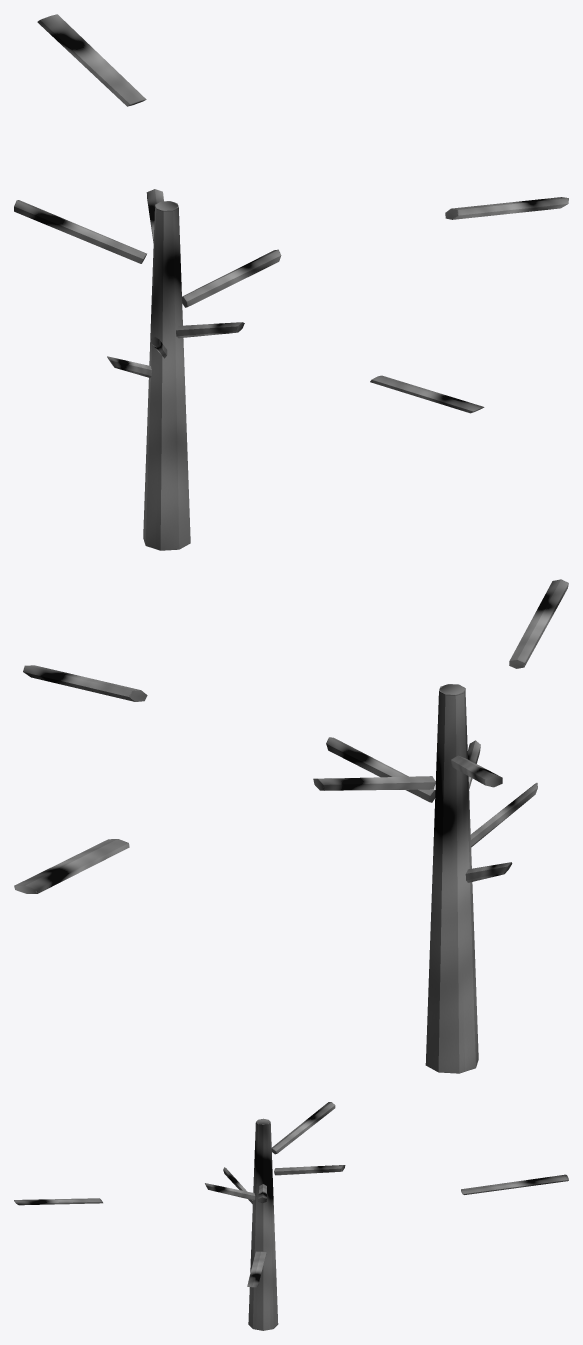
File: tree_dead_2.glb
3 views of the same model, one above another, from view 1: azimuth 30°, elevation 25°; view 2: azimuth 150°, elevation 25°; view 3: azimuth 270°, elevation 25° (orthographic). The views are drawn at different scales.
Parts seen in each view (by area): view 1: tree_dead_2; view 2: tree_dead_2; view 3: tree_dead_2.
Boxes of the visible parts, box(x1,y1,x2,y2) form: tree_dead_2: box(14, 14, 568, 550); tree_dead_2: box(14, 579, 568, 1073); tree_dead_2: box(14, 1102, 568, 1330).
Bounding box in the file's own units: 5.08 × 3.3 × 8.19.
1 material, 1 textured.
